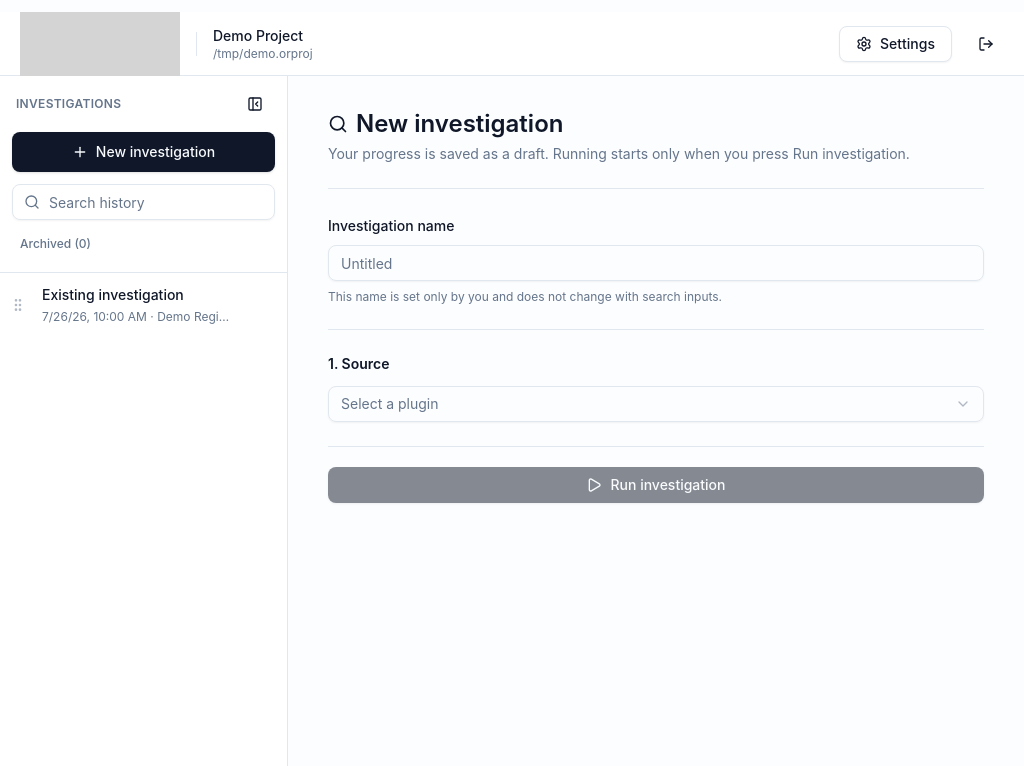
Test: Workspace investigation flow › keeps history usable while another investigation is running
The image size is (1024, 766).
Click the dropdown labelled "plugin" at (390, 404), box [328,386,984,422]
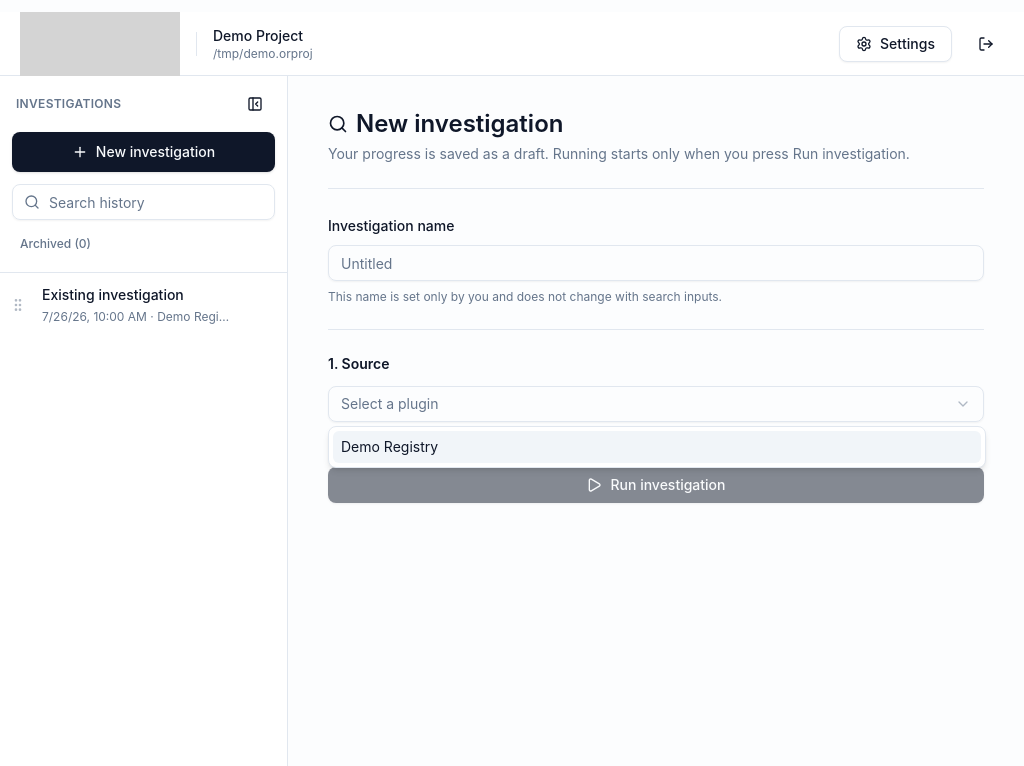
Click the option "Demo Registry" at (390, 446), box [333,431,981,463]
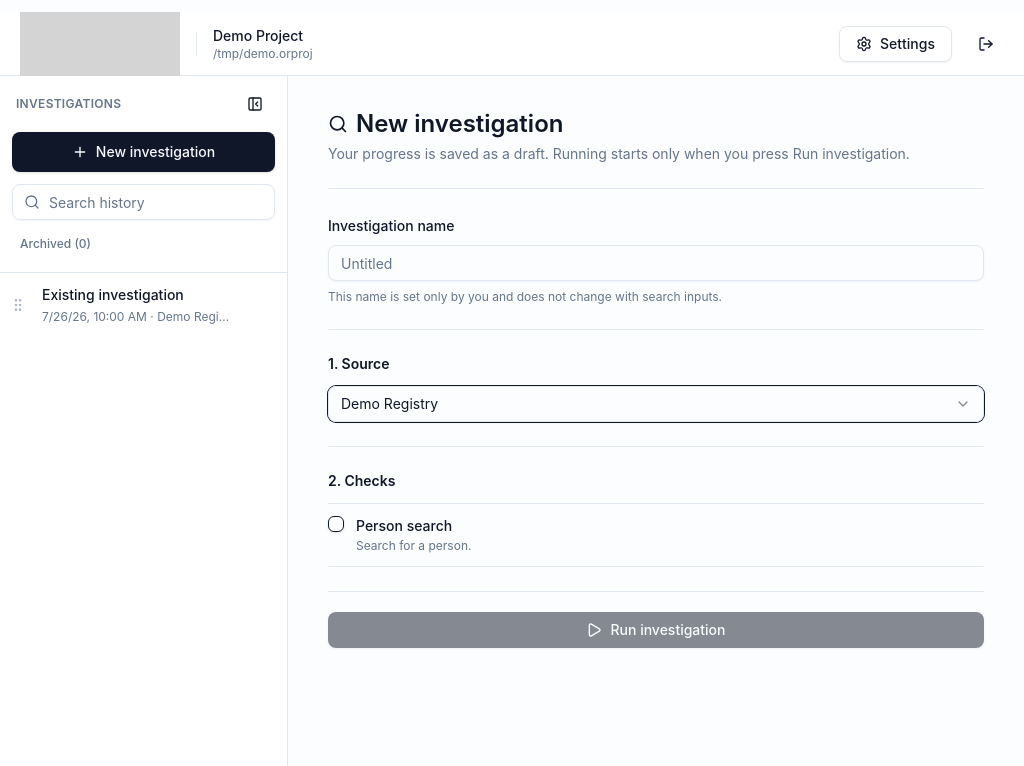
Click the checkbox at (336, 524), box [328,516,344,532]
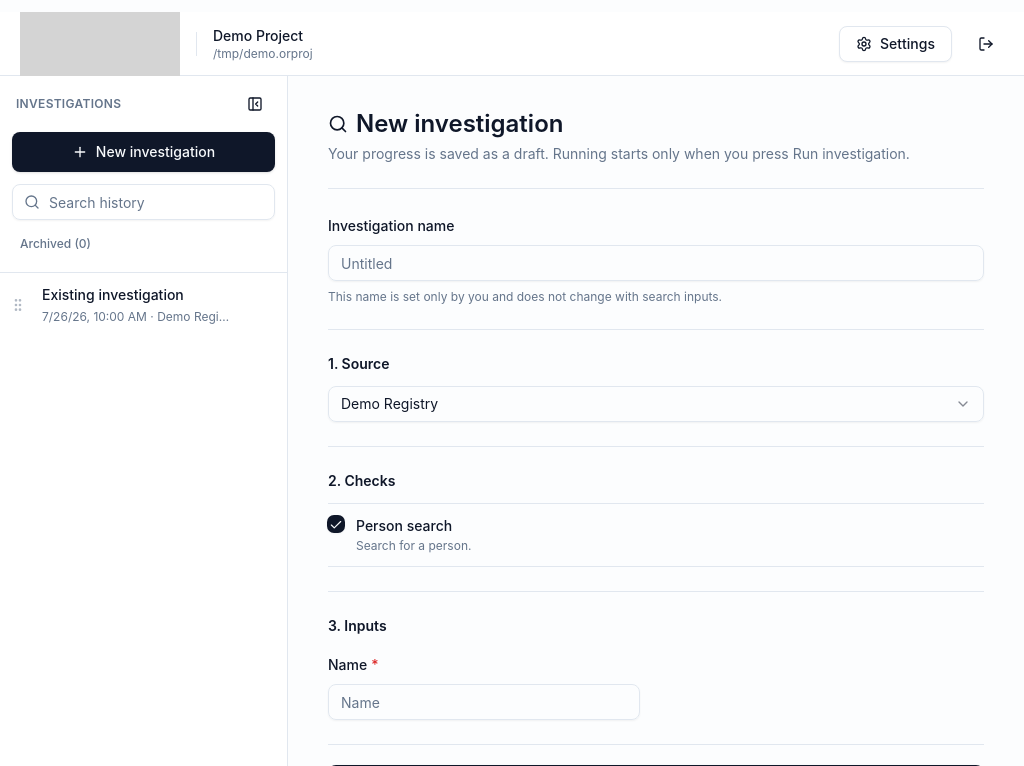
Now the checkbox is checked, box [328,516,344,532]
Type "Running scan" into the field labelled "Name*" at (484, 702), box [328,684,640,720]
(page scrolled)
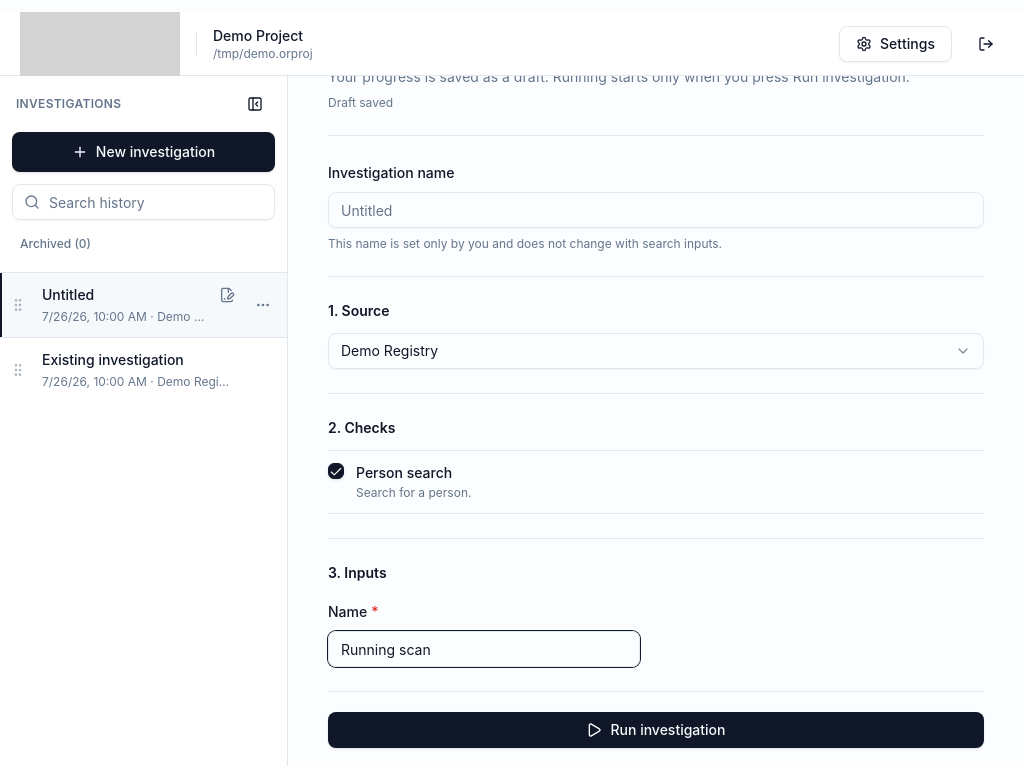
Click the button "Run investigation" at (656, 730), box [328,712,984,748]
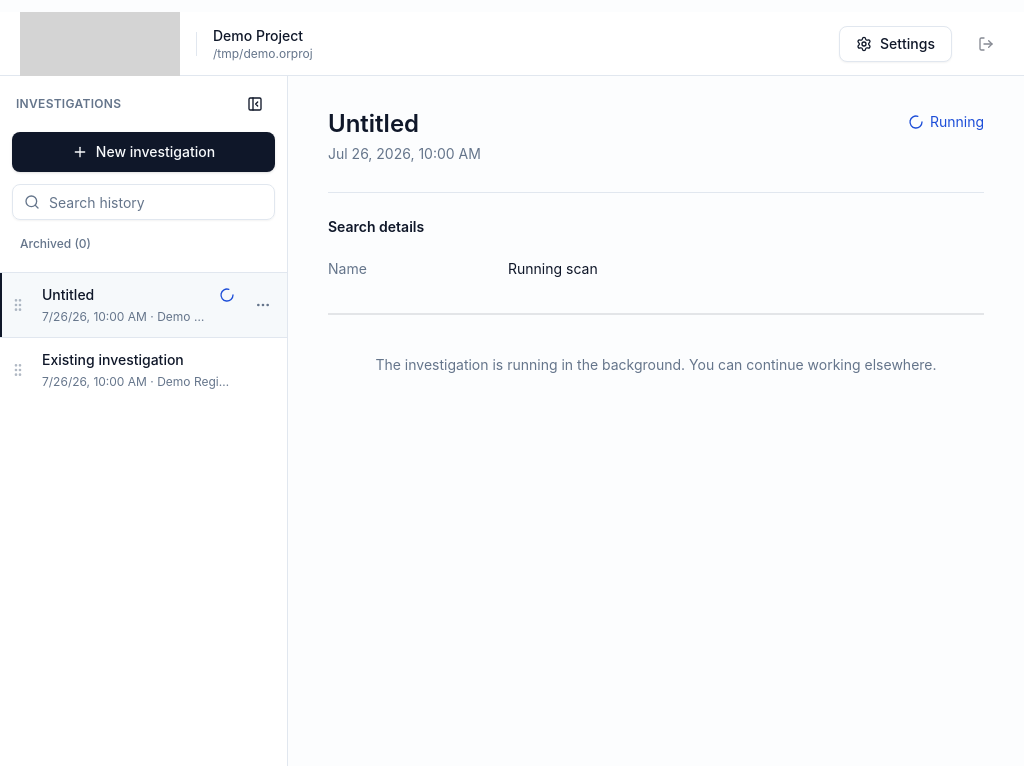
Click the text "Existing investigation" at (113, 360), box [42,351,184,368]
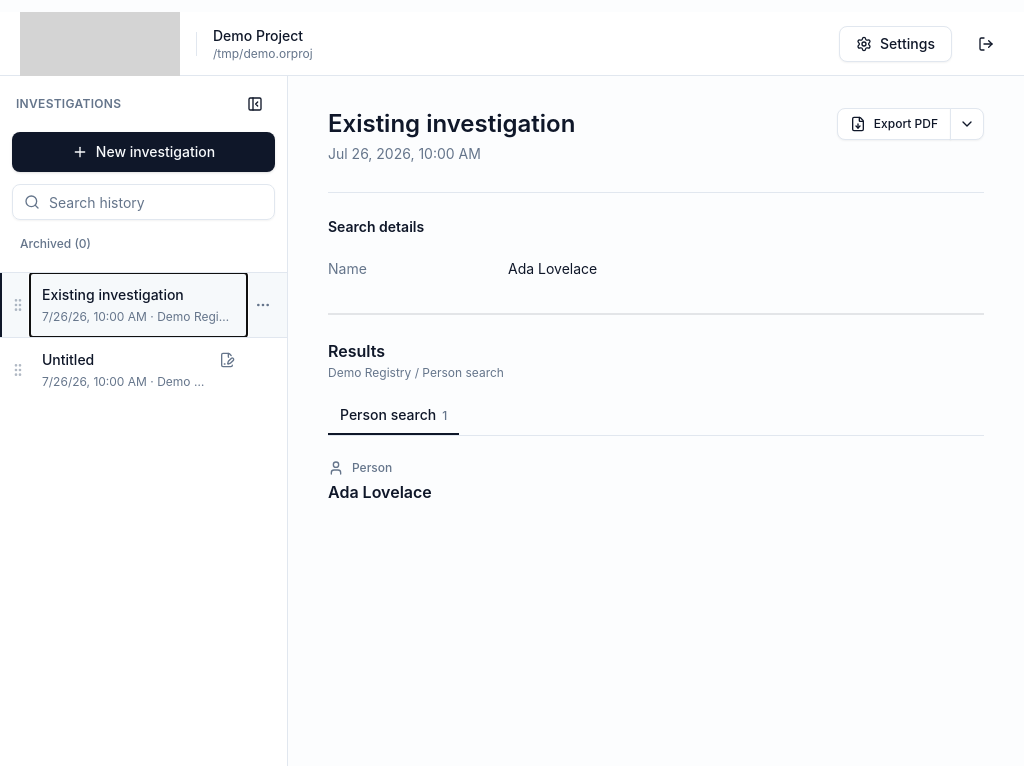
Now the heading "Existing investigation" is shown, box [328,108,575,140]
